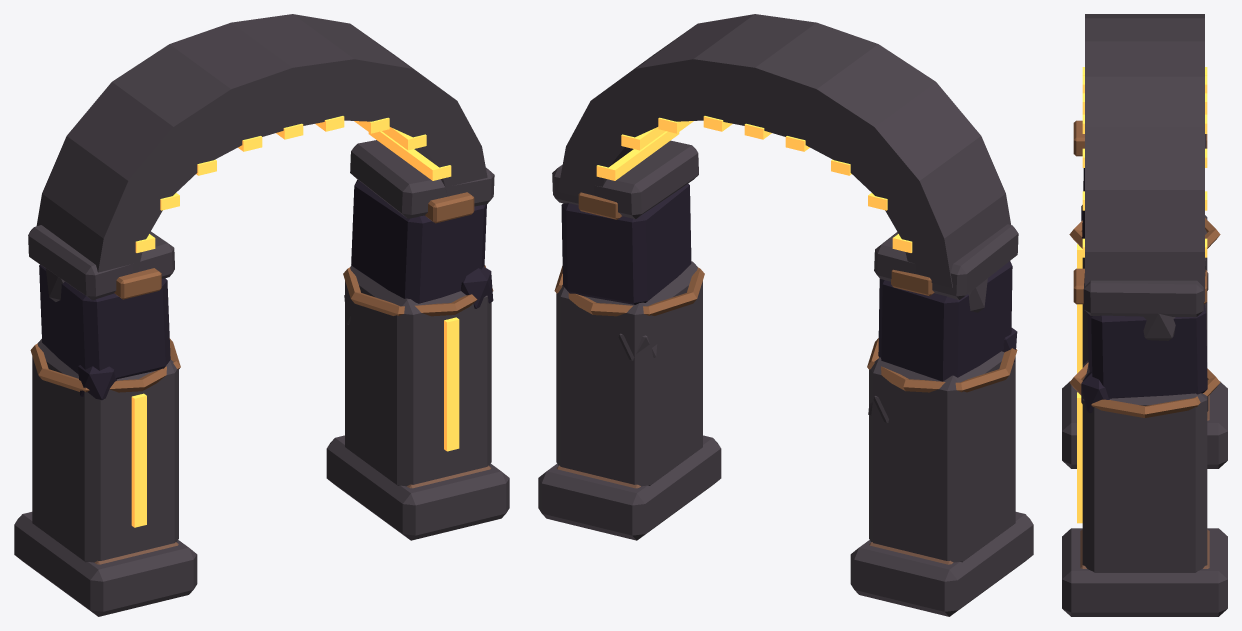
The model's file is rift_archway.glb.
The picture shows the model from 3 angles, left to right: view 1: azimuth 30°, elevation 25°; view 2: azimuth 150°, elevation 25°; view 3: azimuth 270°, elevation 25°; orthographic projection. The views are drawn at different scales.
Visible parts, largest first — view 1: rift_archway; view 2: rift_archway; view 3: rift_archway.
Part boxes in pixels (x1=…): rift_archway: x1=14, y1=14, x2=509, y2=616; rift_archway: x1=538, y1=14, x2=1033, y2=616; rift_archway: x1=1062, y1=14, x2=1227, y2=616.
Size of the model in its own units: 2.18 by 2.3 by 0.72.
